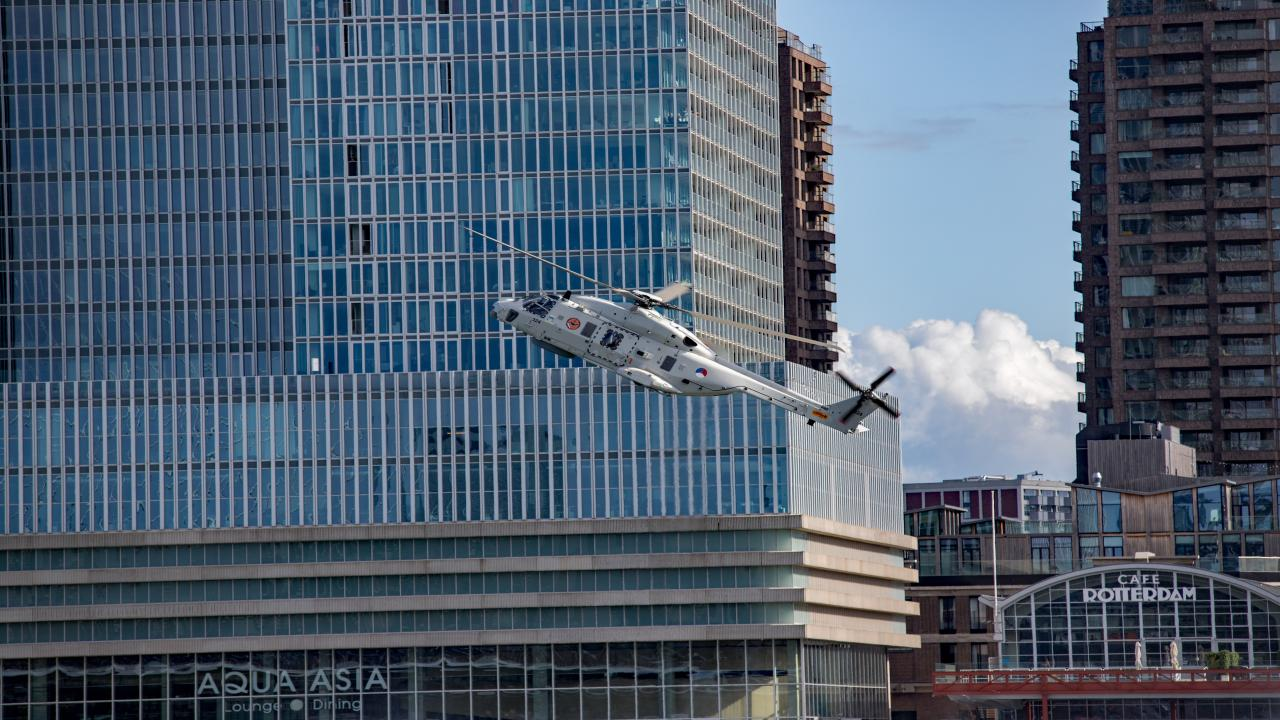Helicopter: (472, 205, 914, 458)
